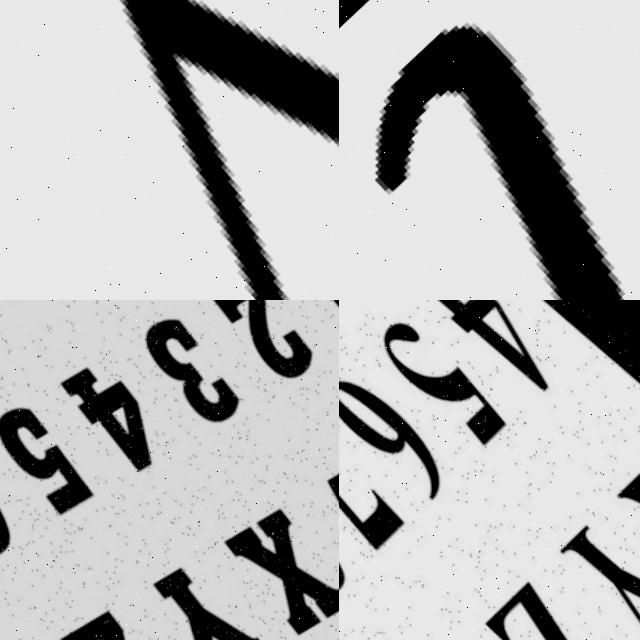2: (177, 300, 339, 404)
3: (110, 300, 277, 445)
4: (24, 306, 230, 514), (408, 300, 594, 415)
5: (353, 300, 547, 470), (0, 355, 146, 552)
6: (339, 323, 496, 529), (0, 397, 79, 611)
7: (339, 373, 447, 583)
8: (339, 442, 393, 637)
T: (339, 0, 640, 300)
V: (0, 0, 339, 300)
